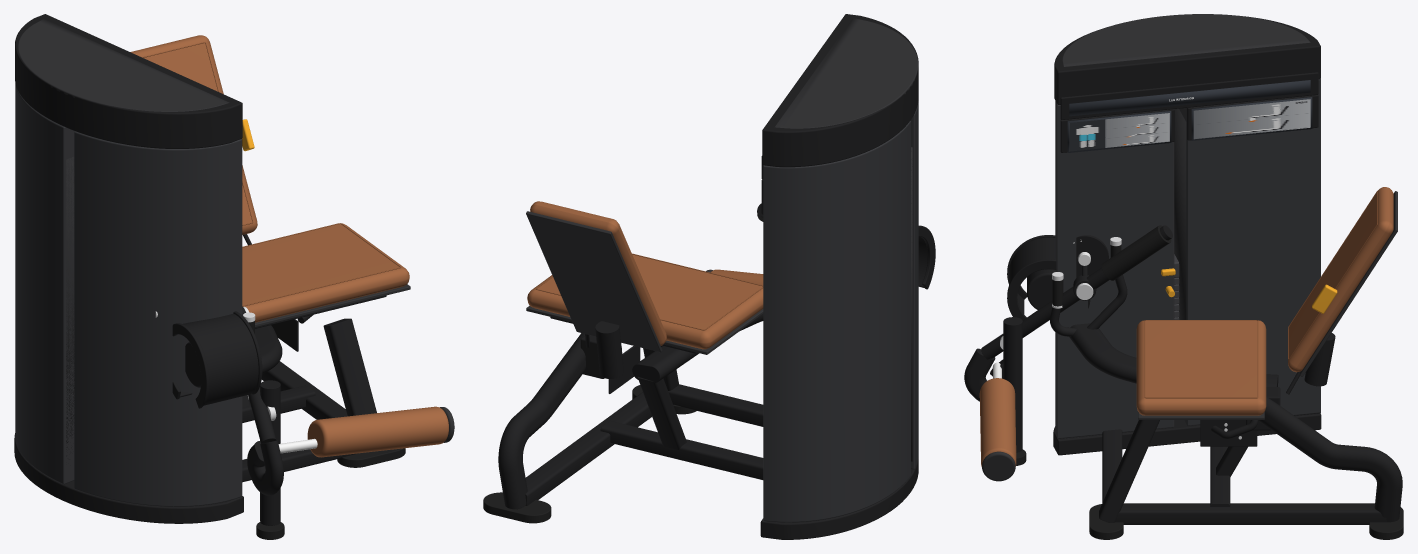
Rendered from precor-resolute-series-leg-extension_v015.glb.
The picture shows the model from 3 angles, left to right: view 1: azimuth 30°, elevation 25°; view 2: azimuth 150°, elevation 25°; view 3: azimuth 270°, elevation 25°; orthographic projection. The views are drawn at different scales.
Parts seen in each view (by area): view 1: precor-resolute-series-leg-extension_tower_shroud, precor-resolute-series-leg-extension_pad.001, precor-resolute-series-leg-extension_tower_frame, precor-resolute-series-leg-extension_tower_plastic, precor-resolute-series-leg-extension_frame.005, precor-resolute-series-leg-extension_frame, precor-resolute-series-leg-extension_pad, precor-resolute-series-leg-extension_frame.003, precor-resolute-series-leg-extension_tower_plastic.001, precor-resolute-series-leg-extension_plastic.001, precor-resolute-series-leg-extension_rubber.002, precor-resolute-series-leg-extension_seam (+2 smaller); view 2: precor-resolute-series-leg-extension_tower_shroud, precor-resolute-series-leg-extension_frame.005, precor-resolute-series-leg-extension_pad.001, precor-resolute-series-leg-extension_tower_frame, precor-resolute-series-leg-extension_plastic.001, precor-resolute-series-leg-extension_tower_plastic, precor-resolute-series-leg-extension_frame.003, precor-resolute-series-leg-extension_rubber.002, precor-resolute-series-leg-extension_frame, precor-resolute-series-leg-extension_frame.006, precor-resolute-series-leg-extension_tower_plastic.001, precor-resolute-series-leg-extension_frame.002; view 3: precor-resolute-series-leg-extension_tower_shroud, precor-resolute-series-leg-extension_frame.005, precor-resolute-series-leg-extension_pad.001, precor-resolute-series-leg-extension_tower_frame, precor-resolute-series-leg-extension_tower_plastic, precor-resolute-series-leg-extension_frame.003, precor-resolute-series-leg-extension_tower_panel, precor-resolute-series-leg-extension_tower_frame.001, precor-resolute-series-leg-extension_tower_decal.001, precor-resolute-series-leg-extension_tower_decal, precor-resolute-series-leg-extension_pad, precor-resolute-series-leg-extension_tower_plastic.001 (+9 smaller).
Part boxes in pixels (<box>): precor-resolute-series-leg-extension_tower_shroud: <box>15,84,242,506</box>; precor-resolute-series-leg-extension_pad.001: <box>130,35,409,322</box>; precor-resolute-series-leg-extension_tower_frame: <box>14,14,243,523</box>; precor-resolute-series-leg-extension_tower_plastic: <box>18,19,229,111</box>; precor-resolute-series-leg-extension_frame.005: <box>242,314,376,495</box>; precor-resolute-series-leg-extension_frame: <box>172,311,262,408</box>; precor-resolute-series-leg-extension_pad: <box>307,406,448,457</box>; precor-resolute-series-leg-extension_frame.003: <box>243,234,280,525</box>; precor-resolute-series-leg-extension_tower_plastic.001: <box>66,157,74,459</box>; precor-resolute-series-leg-extension_plastic.001: <box>255,284,410,327</box>; precor-resolute-series-leg-extension_rubber.002: <box>337,448,405,467</box>; precor-resolute-series-leg-extension_seam: <box>142,42,400,306</box>; precor-resolute-series-leg-extension_tower_shroud: <box>763,101,918,522</box>; precor-resolute-series-leg-extension_frame.005: <box>498,314,763,509</box>; precor-resolute-series-leg-extension_pad.001: <box>527,201,763,349</box>; precor-resolute-series-leg-extension_tower_frame: <box>760,14,918,539</box>; precor-resolute-series-leg-extension_plastic.001: <box>526,211,763,354</box>; precor-resolute-series-leg-extension_tower_plastic: <box>775,18,918,128</box>; precor-resolute-series-leg-extension_frame.003: <box>585,203,763,378</box>; precor-resolute-series-leg-extension_rubber.002: <box>483,385,696,523</box>; precor-resolute-series-leg-extension_frame: <box>918,225,935,289</box>; precor-resolute-series-leg-extension_frame.006: <box>608,346,640,393</box>; precor-resolute-series-leg-extension_tower_plastic.001: <box>911,147,912,461</box>; precor-resolute-series-leg-extension_frame.002: <box>580,335,604,378</box>; precor-resolute-series-leg-extension_tower_shroud: <box>1055,79,1320,439</box>; precor-resolute-series-leg-extension_frame.005: <box>964,265,1402,524</box>; precor-resolute-series-leg-extension_pad.001: <box>1136,187,1393,415</box>; precor-resolute-series-leg-extension_tower_frame: <box>1053,16,1321,455</box>; precor-resolute-series-leg-extension_tower_plastic: <box>1062,14,1310,66</box>; precor-resolute-series-leg-extension_frame.003: <box>981,225,1335,452</box>; precor-resolute-series-leg-extension_tower_panel: <box>1067,80,1312,152</box>; precor-resolute-series-leg-extension_tower_frame.001: <box>1060,72,1318,152</box>; precor-resolute-series-leg-extension_tower_decal.001: <box>1193,99,1310,139</box>; precor-resolute-series-leg-extension_tower_decal: <box>1069,113,1169,151</box>; precor-resolute-series-leg-extension_pad: <box>979,378,1016,466</box>; precor-resolute-series-leg-extension_tower_plastic.001: <box>1174,108,1186,319</box>.
Bounding box in the file's own units: 1.28 × 1.5 × 1.54.
19 materials, 2 textured.
